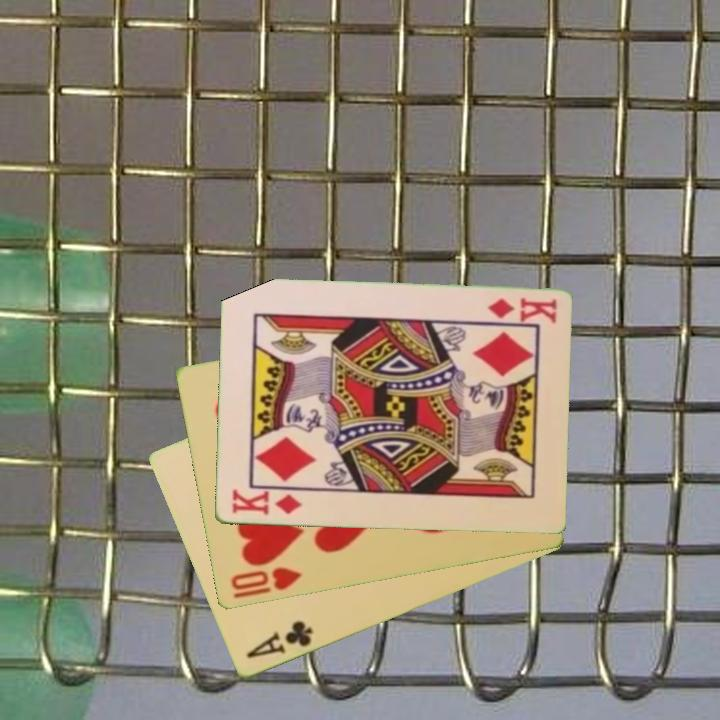10h: (227, 564, 304, 602)
Ac: (242, 617, 316, 662)
Kd: (227, 487, 305, 519), (483, 294, 560, 325)
